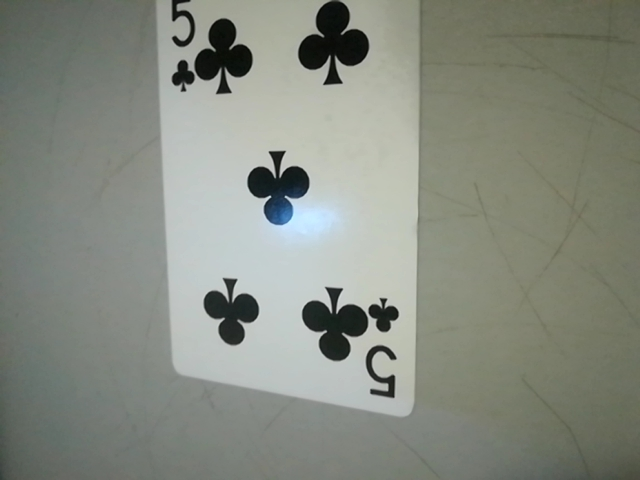mh 5: (368, 289, 413, 407)
